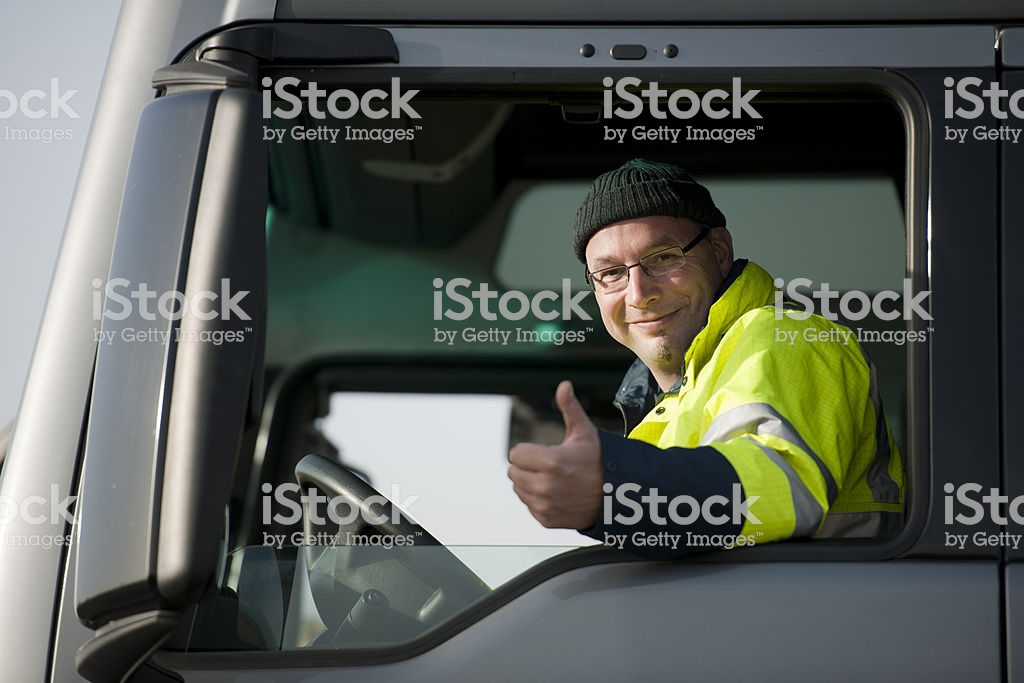thumbsup: (507, 379, 585, 530)
